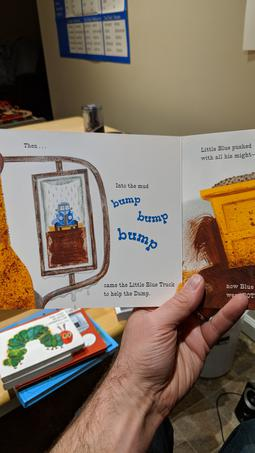text block: (98, 277, 179, 306), (193, 140, 255, 169), (222, 277, 255, 306), (113, 177, 153, 194), (18, 136, 51, 152)
